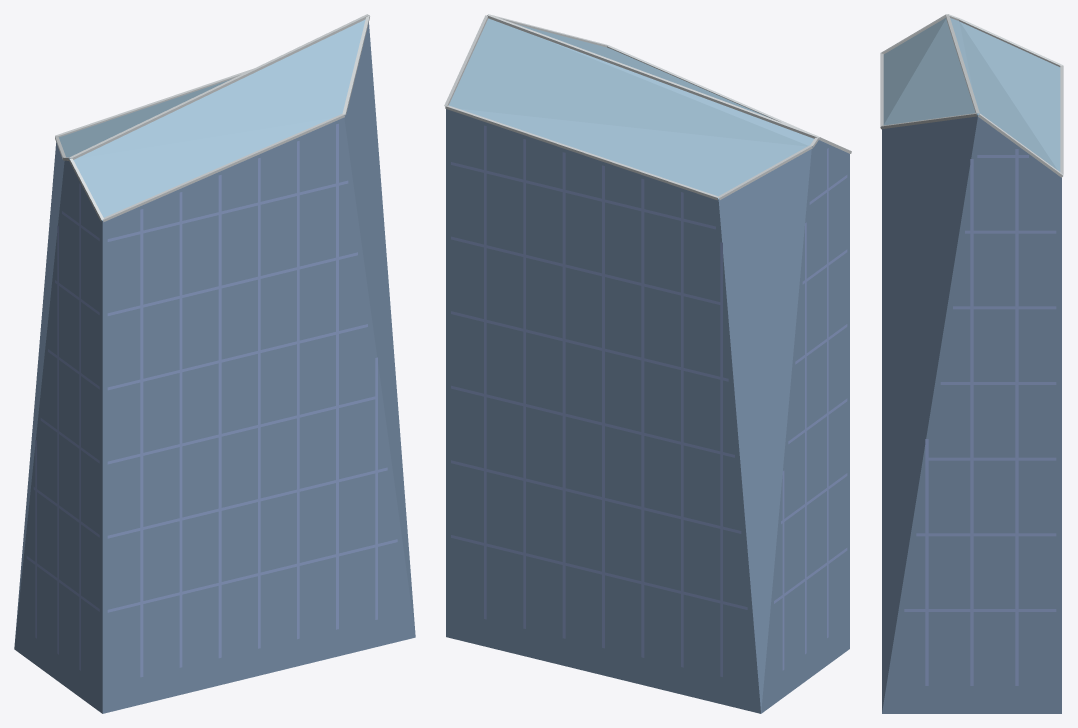
Rendered from phl-cira-centre.glb.
The picture shows the model from 3 angles, left to right: view 1: azimuth 30°, elevation 25°; view 2: azimuth 150°, elevation 25°; view 3: azimuth 270°, elevation 25°; orthographic projection. The views are drawn at different scales.
Parts seen in each view (by area): view 1: Cira Centre; view 2: Cira Centre; view 3: Cira Centre.
Part boxes in pixels (x1,y1,x2,y2): Cira Centre: [14, 14, 415, 713]; Cira Centre: [444, 14, 851, 713]; Cira Centre: [880, 14, 1063, 713].
Bounding box in the file's own units: 78.5 × 140 × 38.71.
